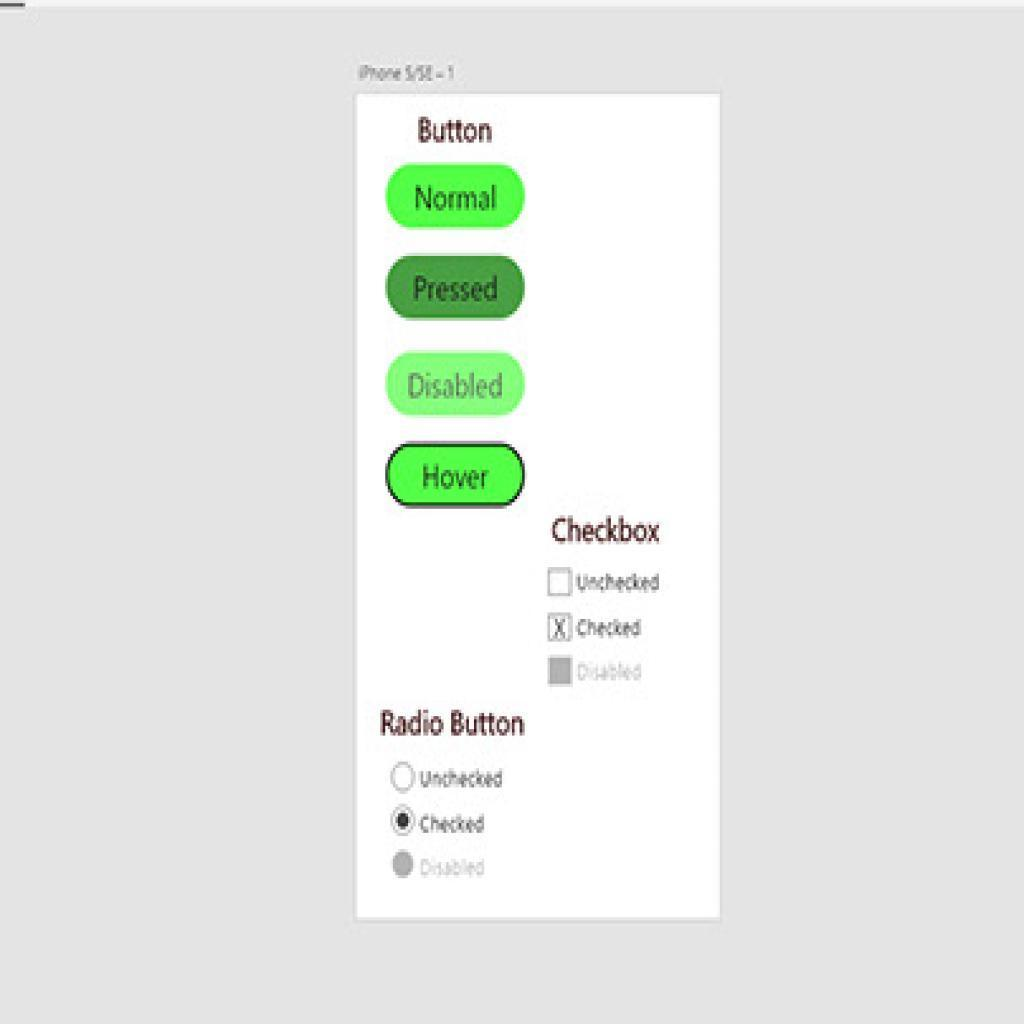button: (385, 249, 526, 324), (386, 349, 527, 422), (387, 439, 526, 513), (385, 161, 526, 231)
checkbox: (548, 612, 576, 646), (547, 657, 574, 686), (547, 569, 574, 597)
radio: (389, 845, 416, 880), (392, 806, 419, 839), (391, 759, 415, 795)
